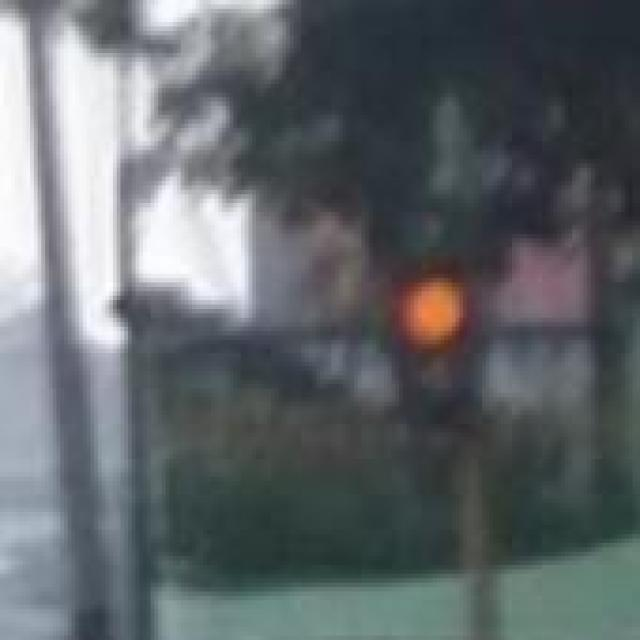yellow_light: (388, 199, 478, 438)
